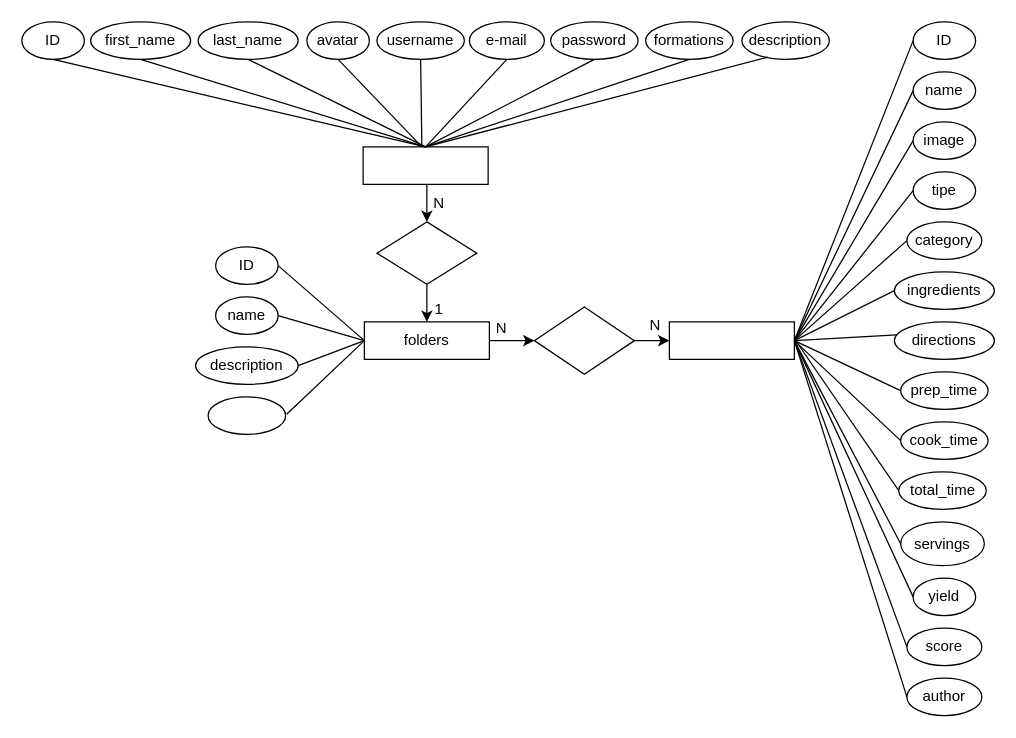
This 1016x738 diagram has some shape labels left out. Here are the shapes that lost their labels. From the top down, the centre of each, then its label:
At point 425,165: "users".
At point 426,252: "cria".
At point 583,340: "tem".
At point 731,340: "receitas".
At point 246,415: "recipes".
